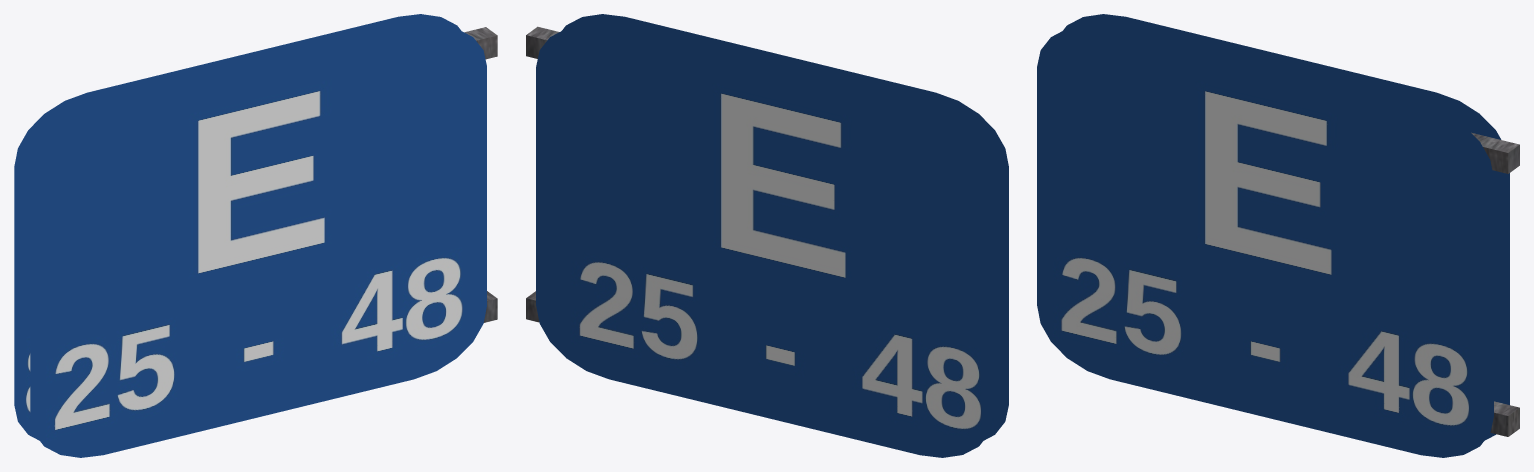
3 renders of one model, left to right at view 1: azimuth 30°, elevation 25°; view 2: azimuth 150°, elevation 25°; view 3: azimuth 330°, elevation 25°, orthographic.
Visible parts, largest first — view 1: Cube; view 2: Cube; view 3: Cube.
Part boxes in pixels (x1,y1,x2,y2): Cube: (14,14,497,457); Cube: (526,14,1008,457); Cube: (1037,14,1519,457).
Size of the model in its own units: 0.9334 by 0.667 by 0.055.
Materials: 2 (2 with a texture image).
